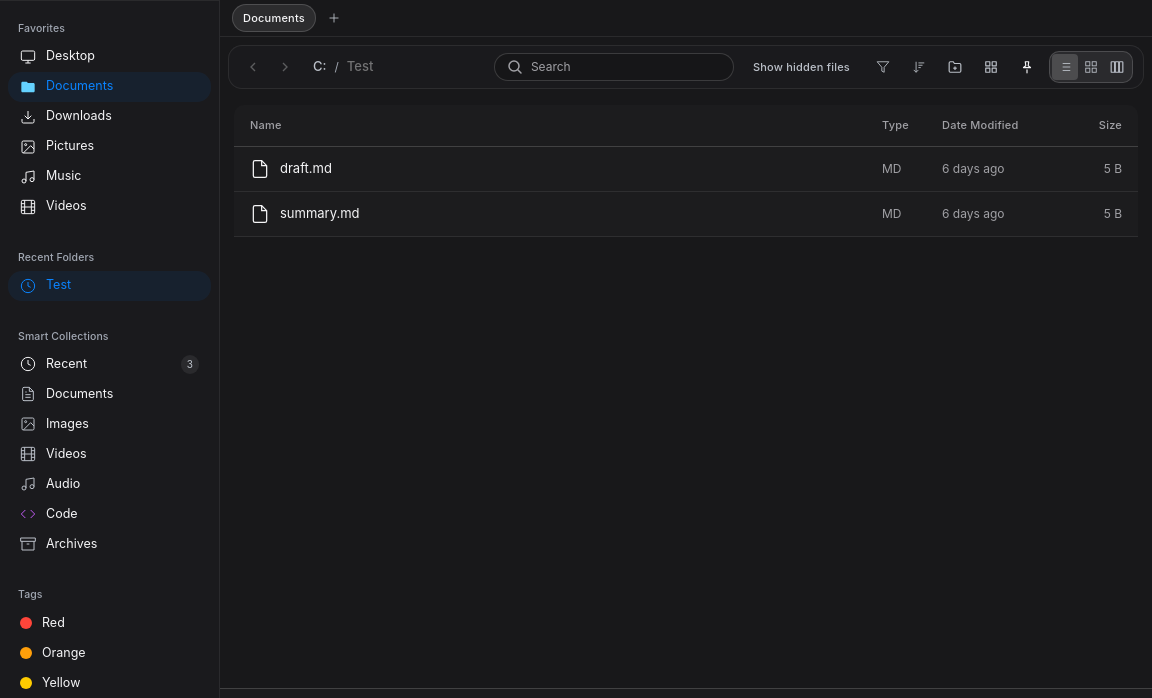
Test: applies the file search and hidden setting to Recent Files
Expected: the text "summary.md" is shown, [280,204,360,223]
Click the button with aria-label "Recent files" at (110, 364), box [8,349,211,379]
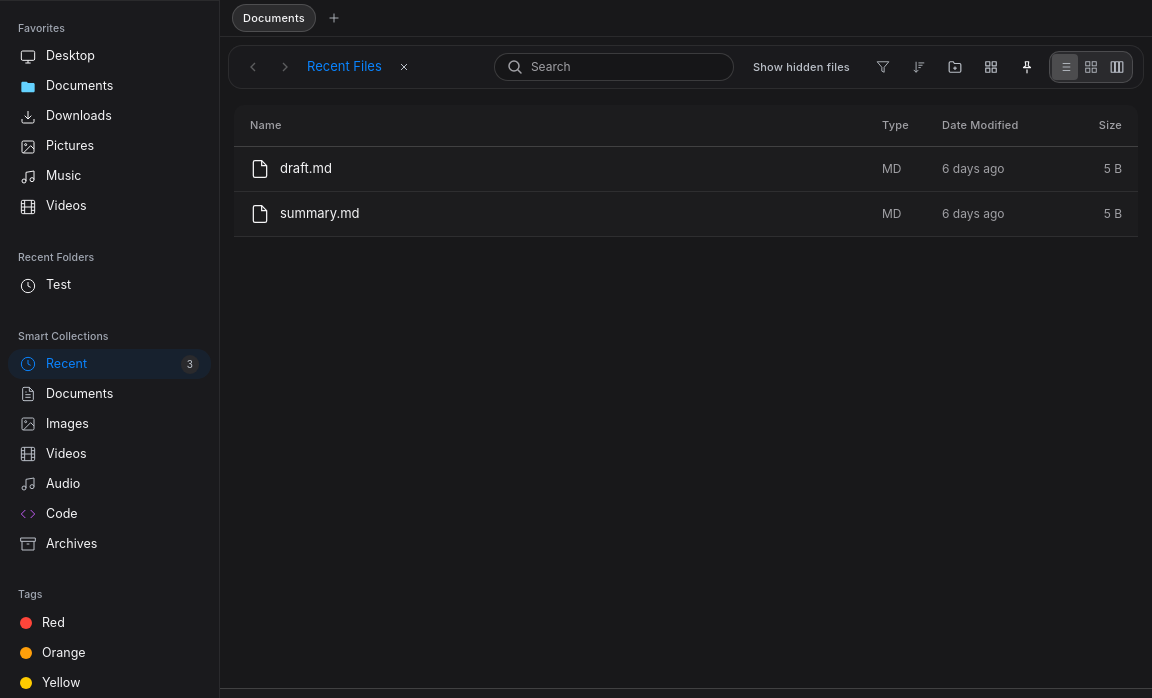
Type "draft" into the search field with placeholder "Search" at (626, 67), box [531,58,721,76]
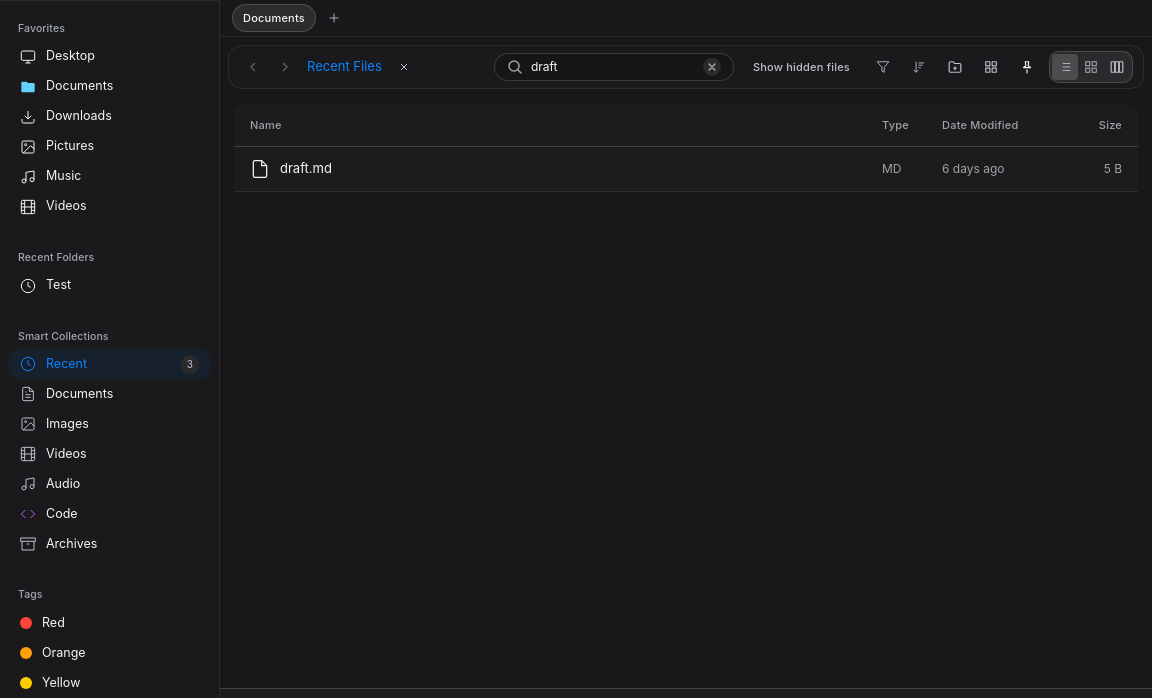
Expected: the text "draft.md" is shown, [280,159,332,178]
Expected: the text "summary.md" is gone
